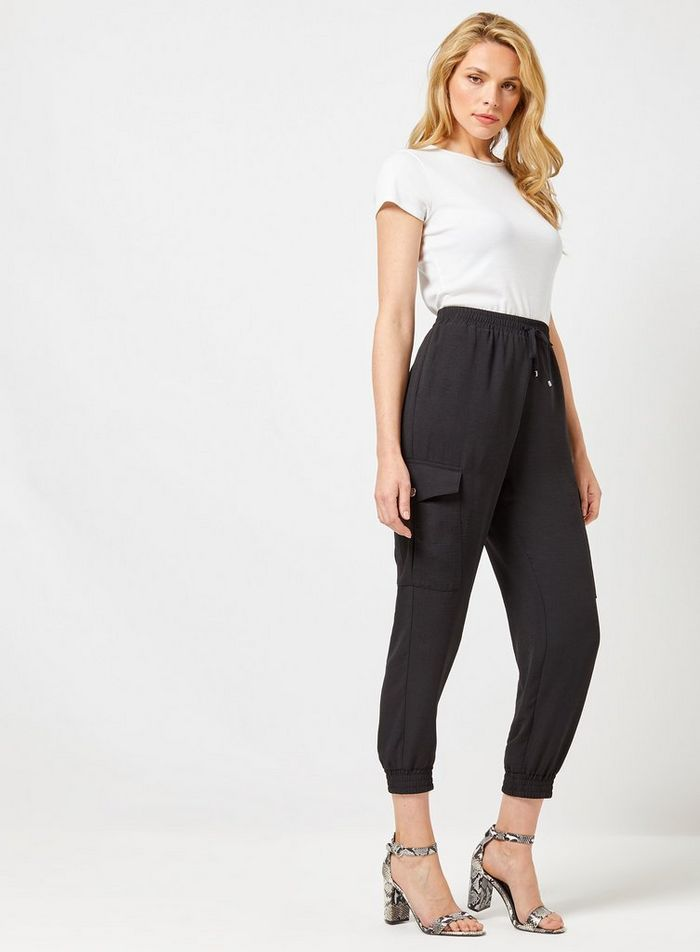F_W_suit jacket: (399, 158, 561, 336)
